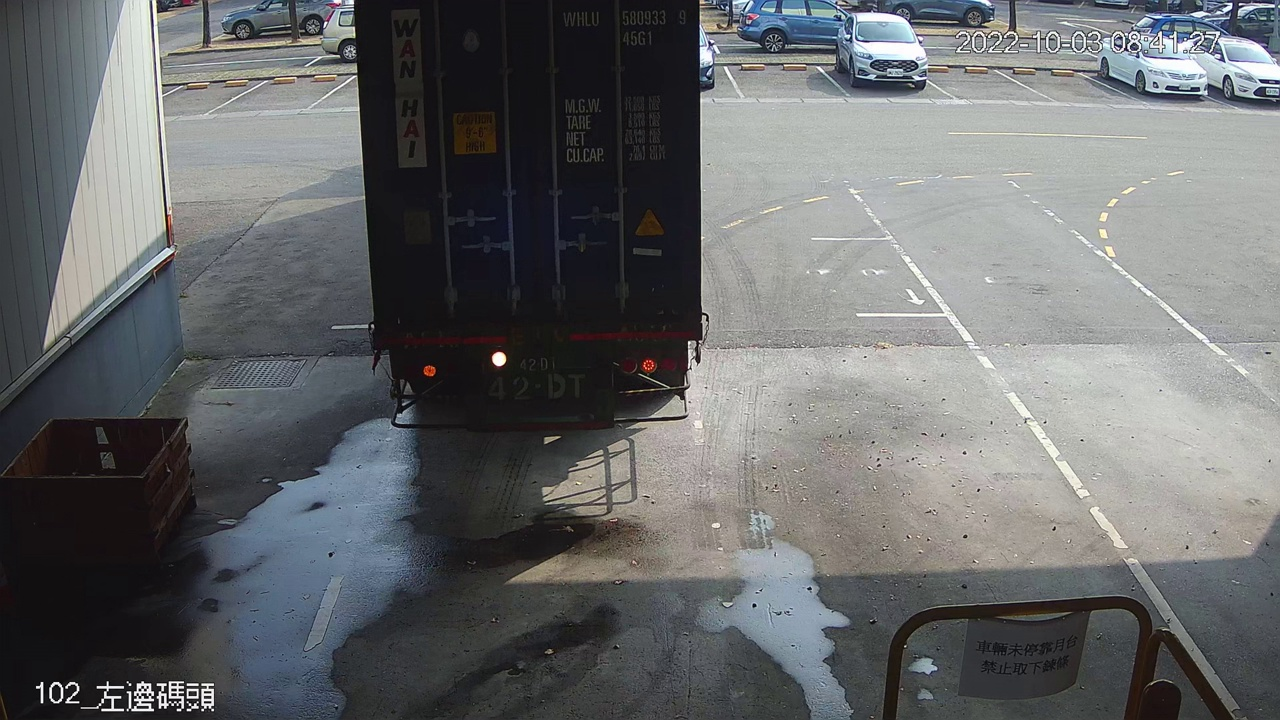container: (559, 4, 691, 51)
